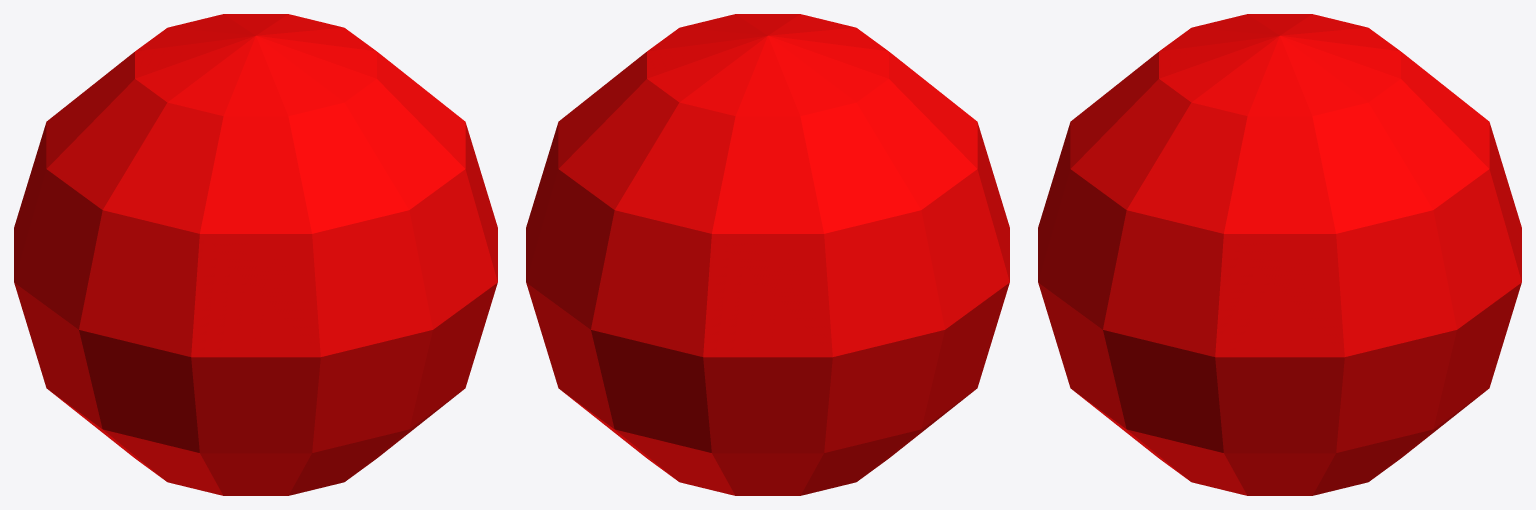
The model's file is BouncerBall.fbx.
The picture shows the model from 3 angles, left to right: view 1: azimuth 30°, elevation 25°; view 2: azimuth 150°, elevation 25°; view 3: azimuth 270°, elevation 25°; orthographic projection.
Parts seen in each view (by area): view 1: sphere; view 2: sphere; view 3: sphere.
Part boxes in pixels (left/top/right/bottom): sphere: left=14, top=14, right=497, bottom=495; sphere: left=526, top=14, right=1009, bottom=495; sphere: left=1038, top=14, right=1521, bottom=495.
Bounding box in the file's own units: 100 × 100 × 100.
Materials: 1 (1 with a texture image).
